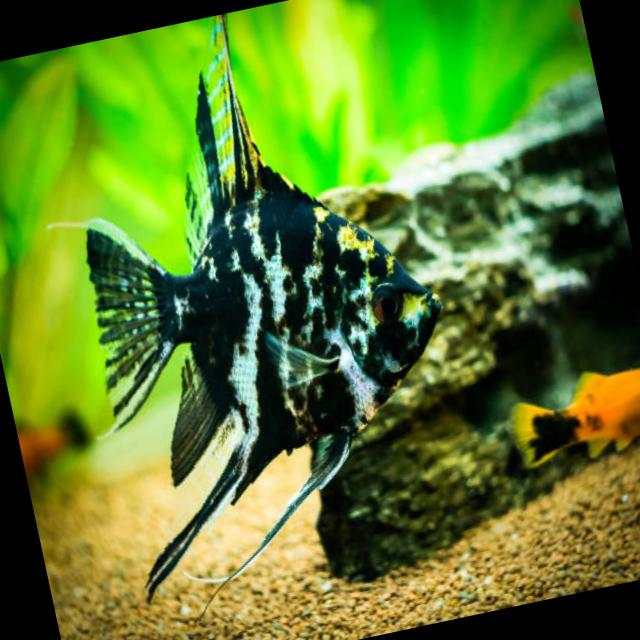AngelFish: (30, 0, 491, 601)
